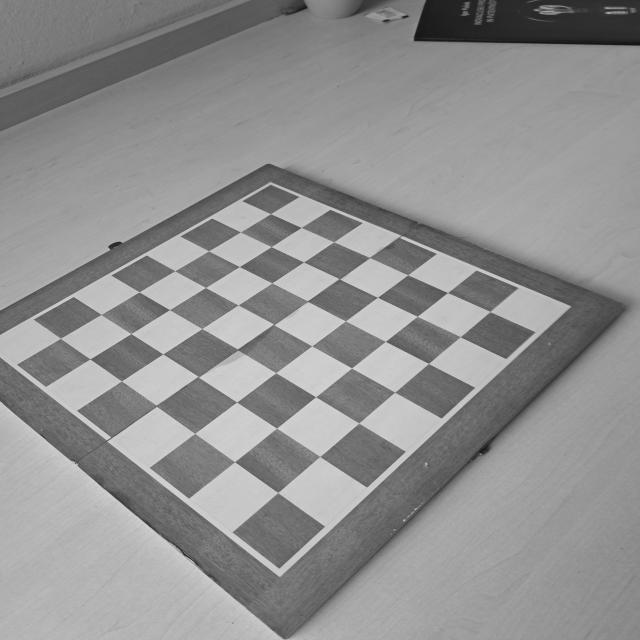chess-table-corners: (258, 552, 300, 584), (541, 296, 582, 322), (260, 178, 282, 192)
